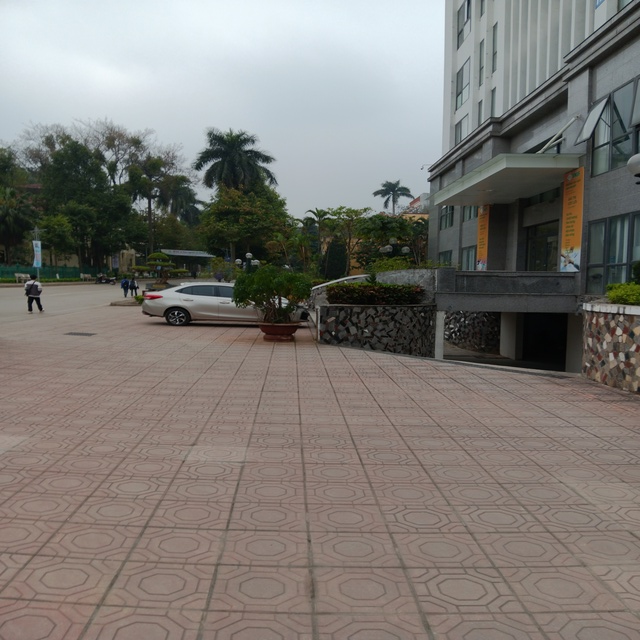caycanh: (234, 255, 316, 348)
